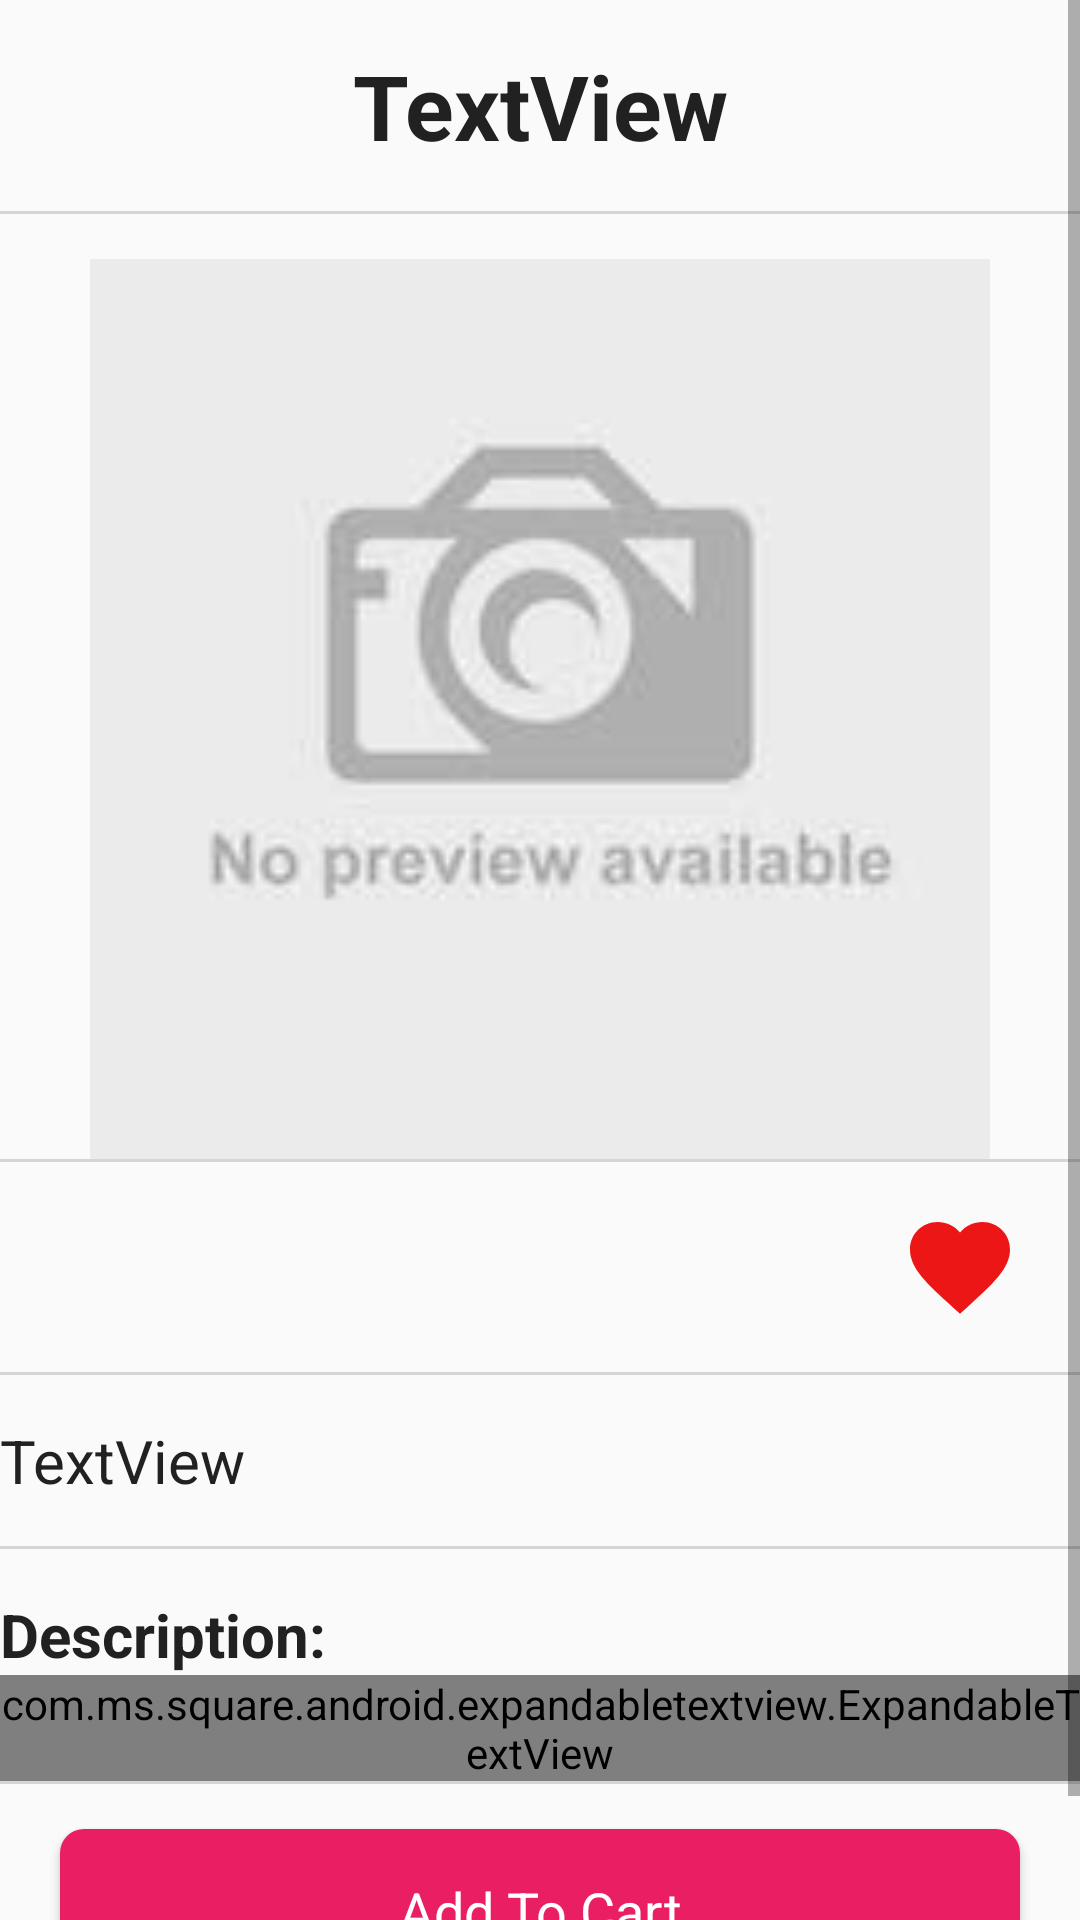

Locate icon controls on the screen. Image size 1080px x 1920px, boxes as {"x1": x1, "y1": y1, "x2": x2, "y2": y2}.
favorite: {"x1": 910, "y1": 1222, "x2": 1010, "y2": 1314}
